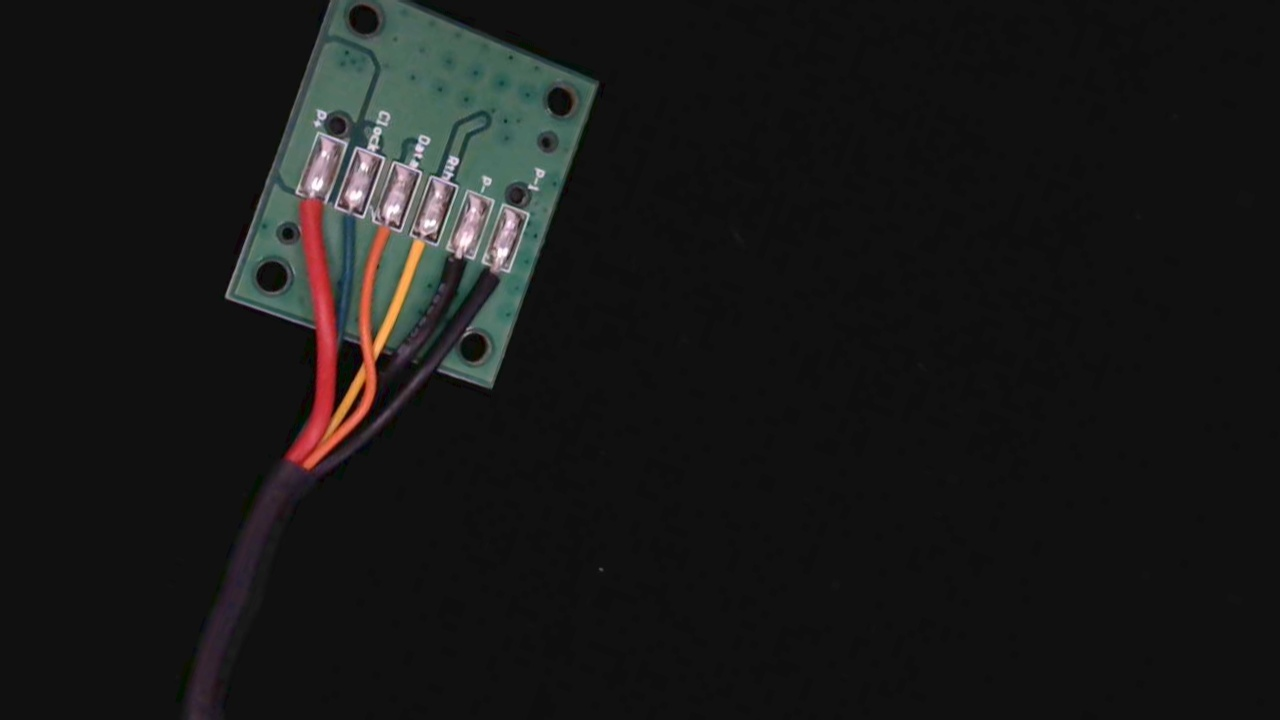Black: (425, 228, 482, 309)
Black1: (463, 244, 517, 318)
Green: (318, 183, 374, 260)
Orange: (352, 201, 407, 279)
Red: (278, 173, 334, 251)
Yellow: (388, 216, 446, 298)
